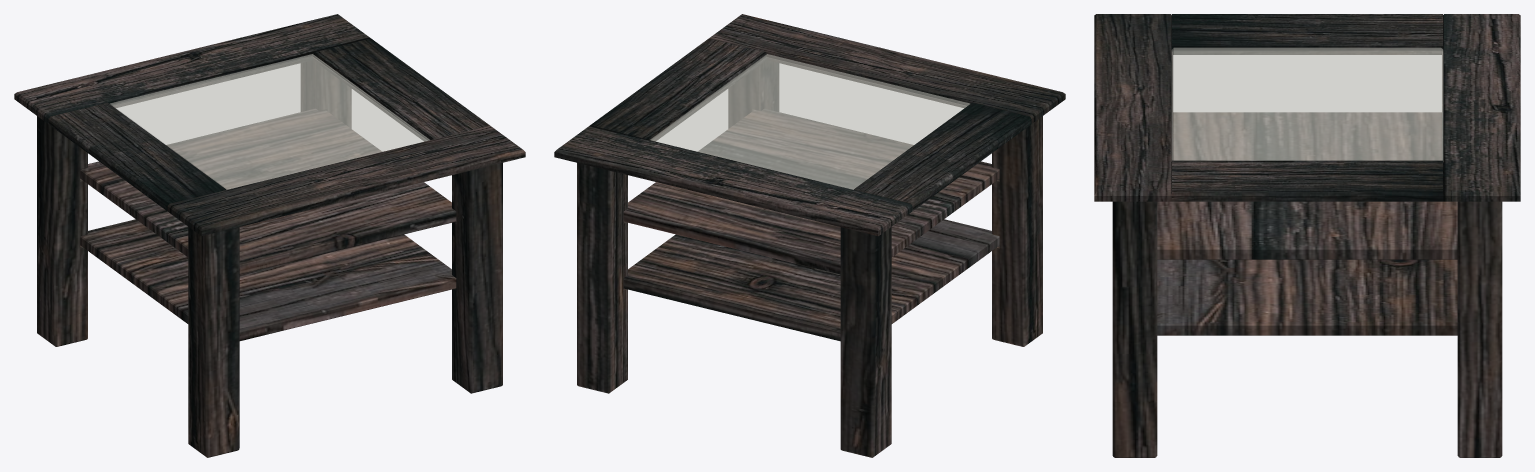
File: table.fbx
3 views of the same model, side by side, from view 1: azimuth 30°, elevation 25°; view 2: azimuth 150°, elevation 25°; view 3: azimuth 270°, elevation 25° (orthographic). The views are drawn at different scales.
Visible parts, largest first — view 1: Wood_Table; view 2: Wood_Table; view 3: Wood_Table.
Part boxes in pixels (x1,y1,x2,y2): Wood_Table: (14,14,525,457); Wood_Table: (554,14,1065,457); Wood_Table: (1094,14,1520,457).
Bounding box in the file's own units: 66.01 × 46.64 × 66.01.
